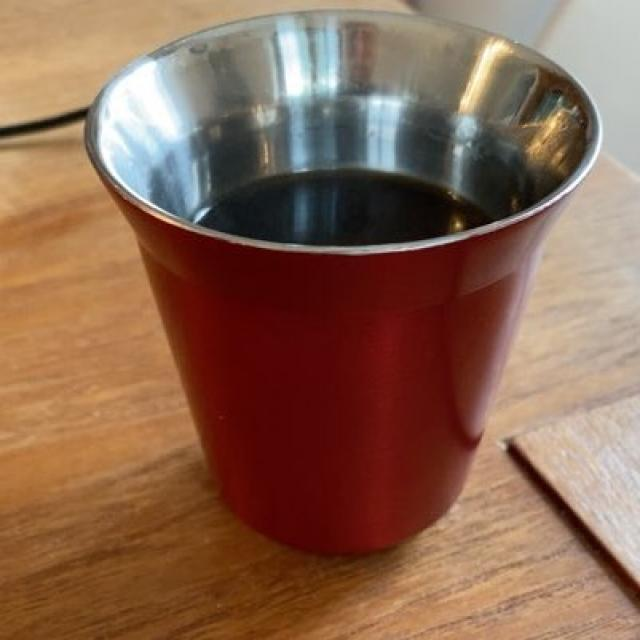coffee: (200, 170, 481, 241)
